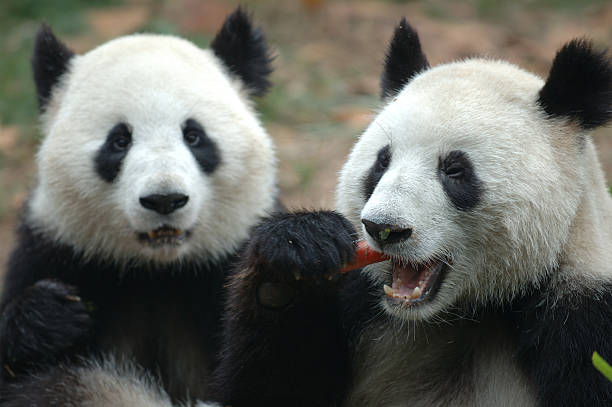panda: (327, 10, 612, 345), (17, 8, 289, 301)
